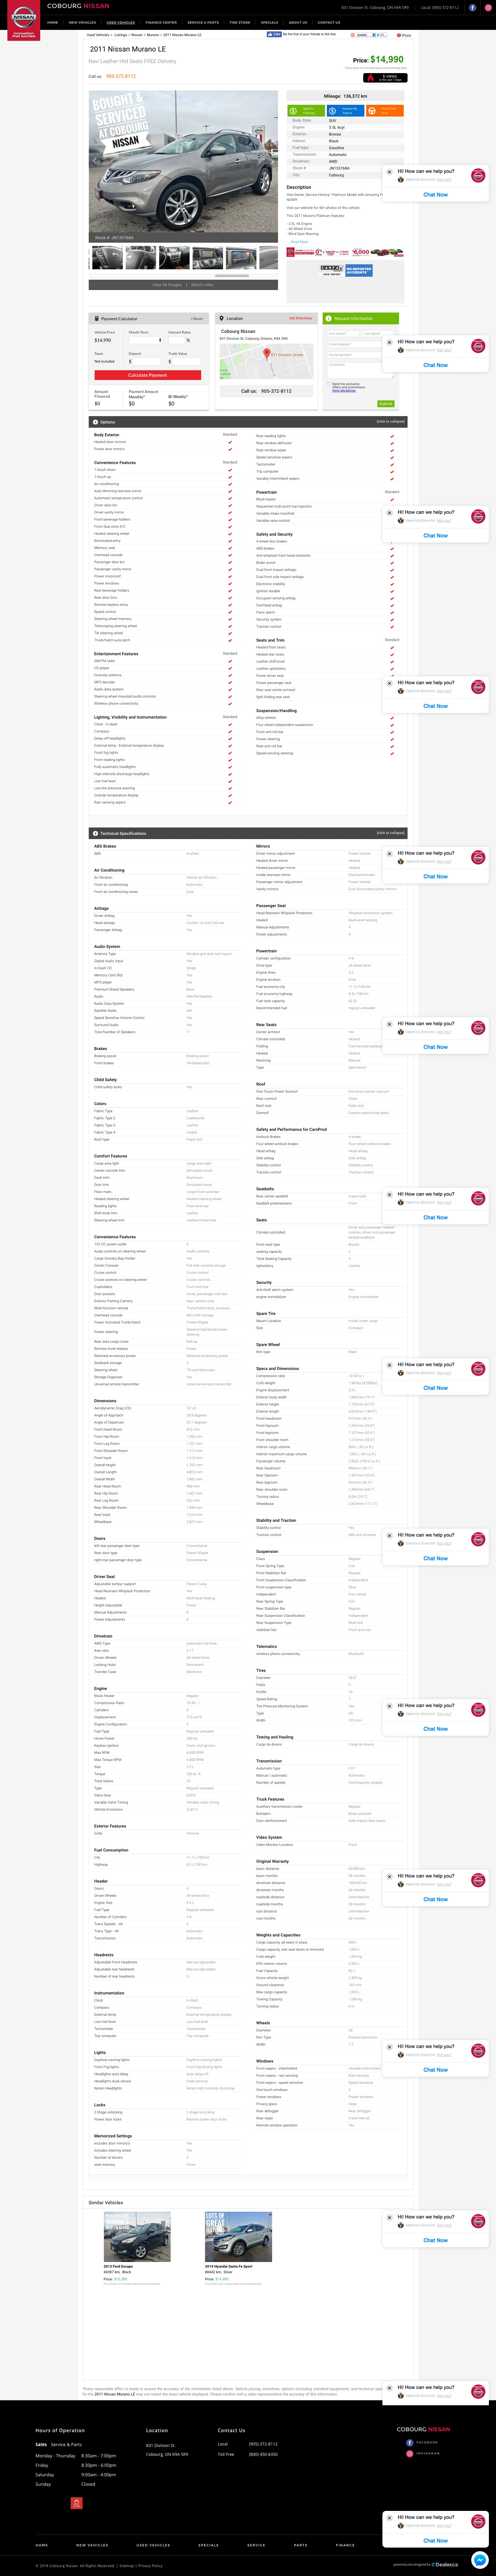car: (266, 156, 279, 168)
